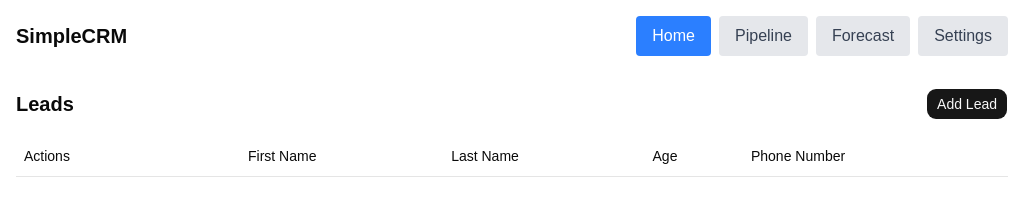
Scenario: App › shows group-by pills for opportunity-scoped custom fields
Step 1. Click the button "Forecast" → (863, 36), box [816,16,910,56]
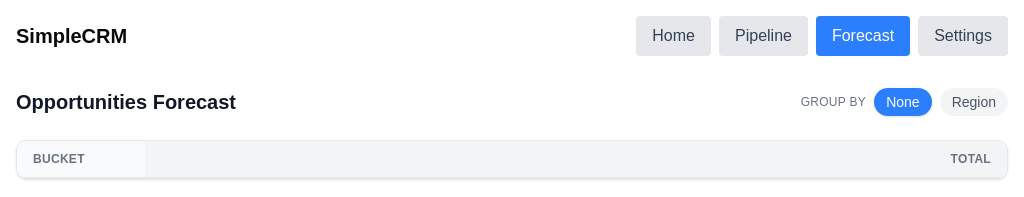
Expected: the button "Region" is shown, [940,88,1008,116]
